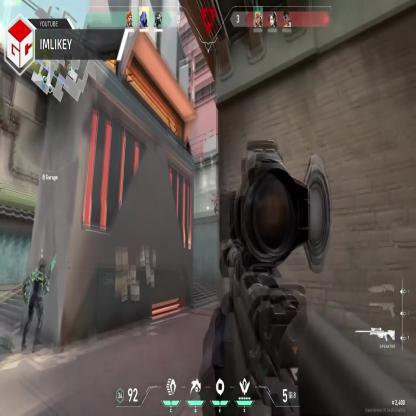enemy: (211, 194, 220, 216)
enemy_head: (214, 192, 216, 198)
